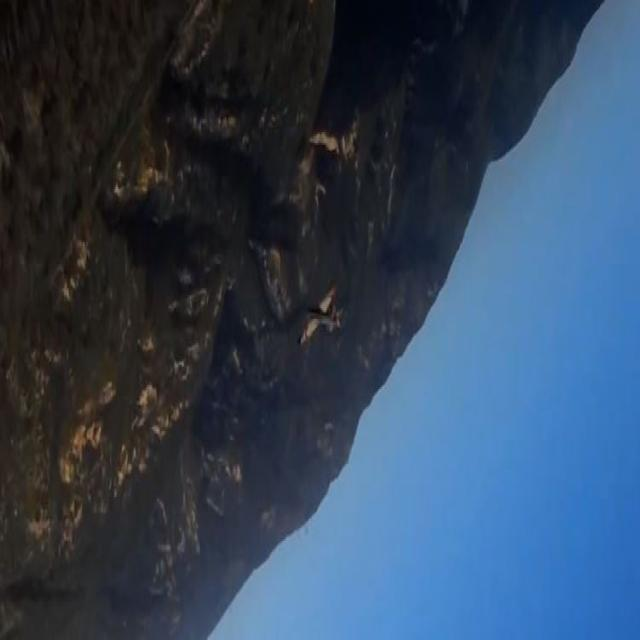iha: (295, 311, 345, 315)
